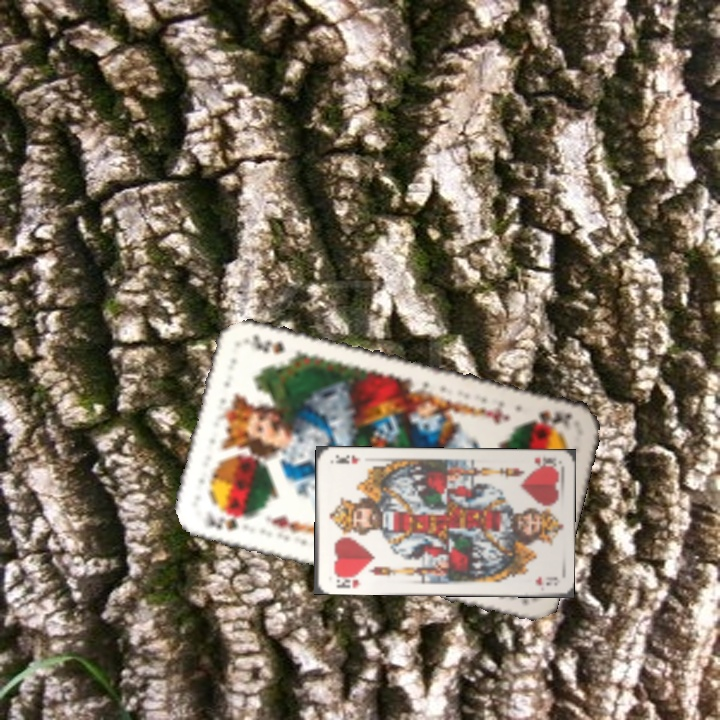HK: (330, 570, 362, 590), (531, 453, 559, 472)
SK: (204, 508, 253, 534), (525, 406, 575, 430)
